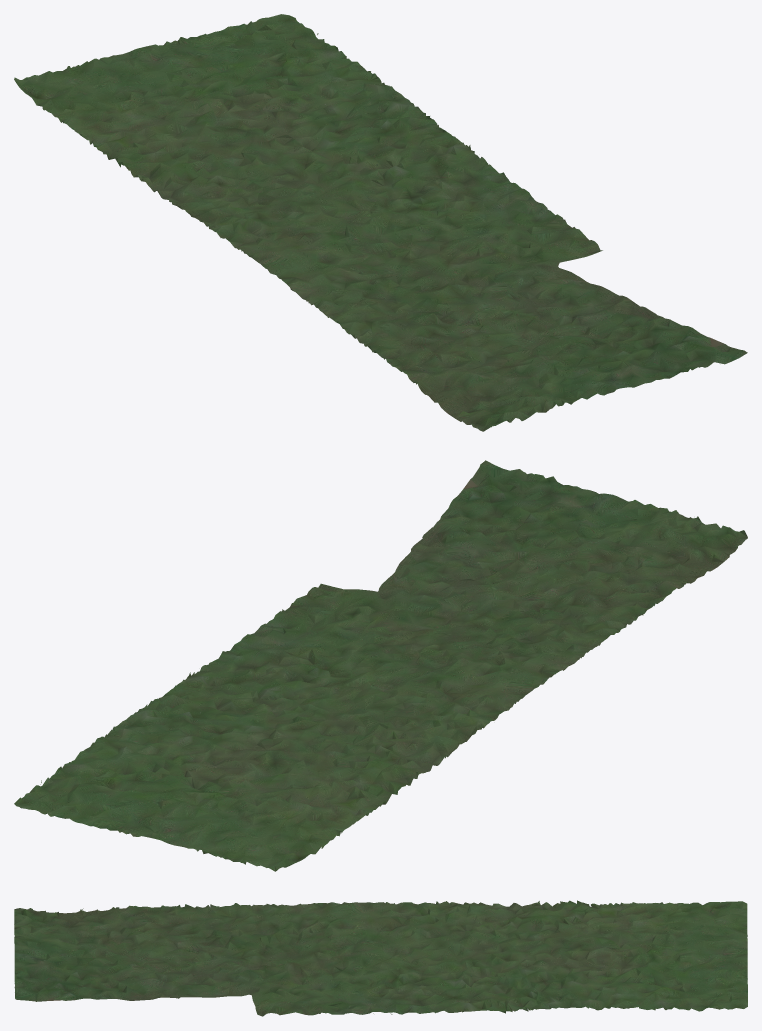
File: grass.lod4.glb
3 views of the same model, one above another, from view 1: azimuth 30°, elevation 25°; view 2: azimuth 150°, elevation 25°; view 3: azimuth 270°, elevation 25° (orthographic). The views are drawn at different scales.
Visible parts, largest first — view 1: Model_material0_0; view 2: Model_material0_0; view 3: Model_material0_0.
Part boxes in pixels (bbox=[...]): Model_material0_0: bbox=[14, 14, 747, 431]; Model_material0_0: bbox=[14, 460, 747, 871]; Model_material0_0: bbox=[14, 900, 747, 1016].
Bounding box in the file's own units: 94.12 × 6.49 × 274.
1 material, 1 textured.
